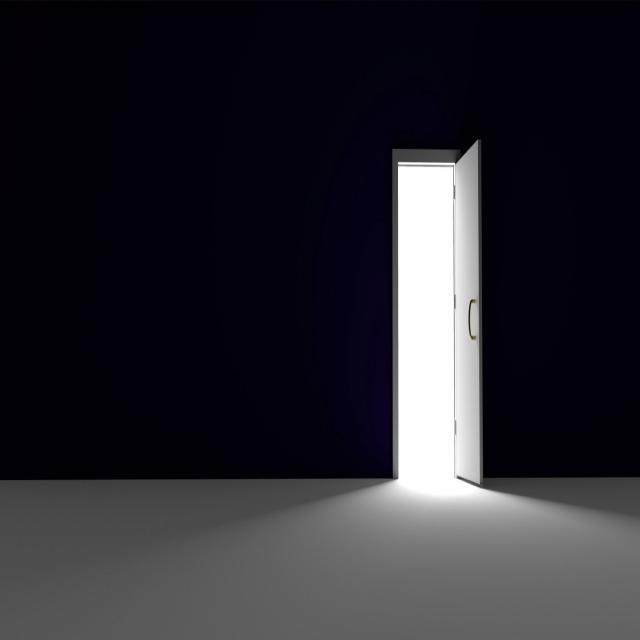open: (392, 152, 483, 482)
